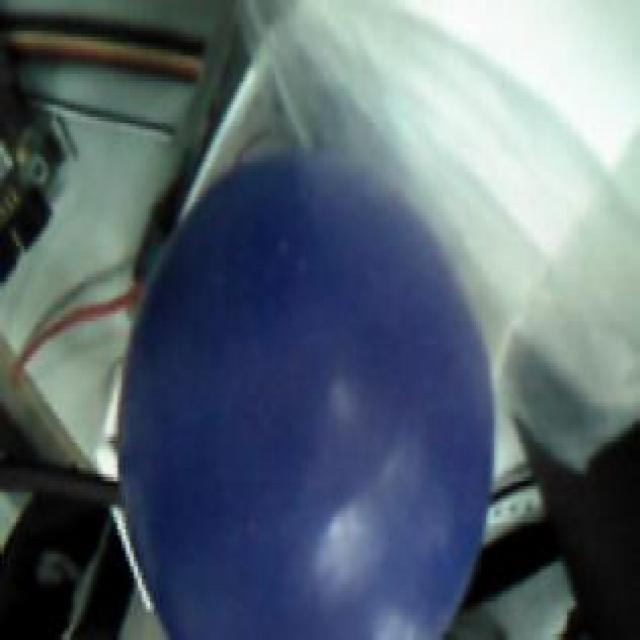BallPurple: (116, 150, 494, 640)
